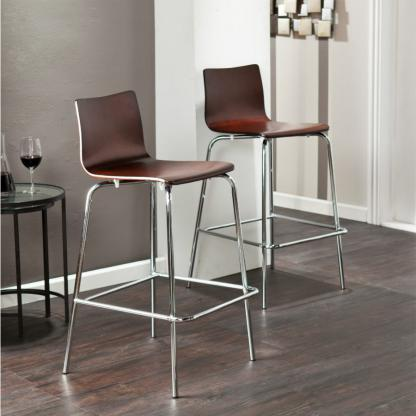chair: (57, 75, 235, 398), (205, 46, 337, 289)
table: (0, 180, 72, 350)
